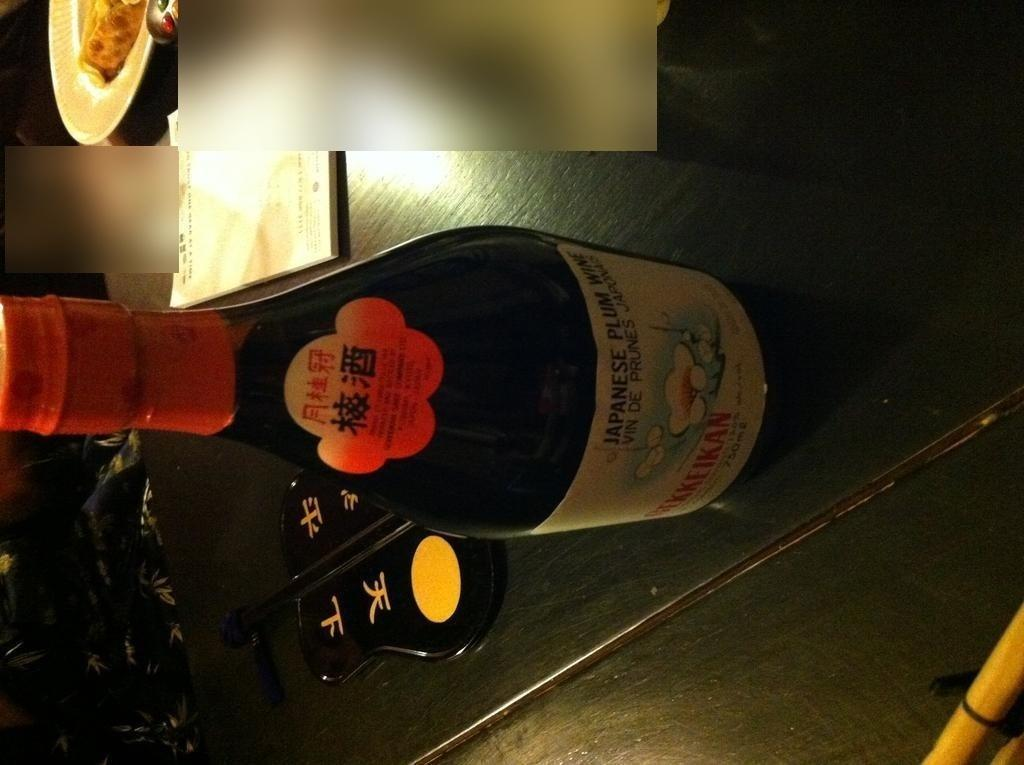bottle-glass: (0, 224, 782, 542)
